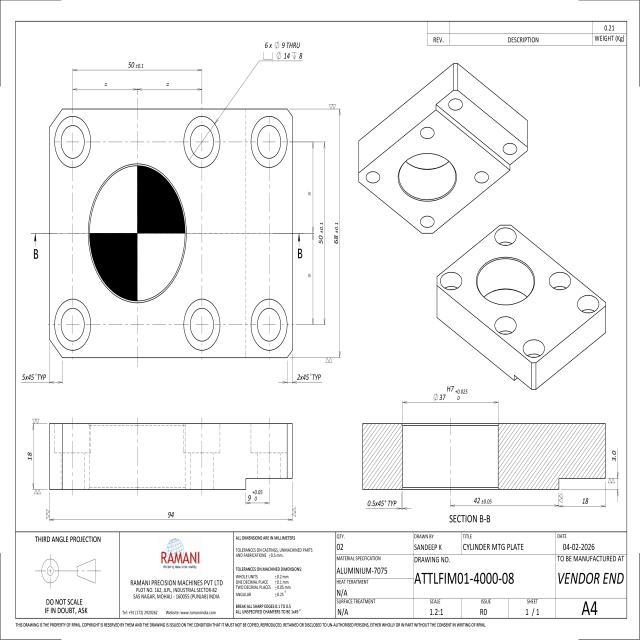dimension: (262, 38, 304, 60), (432, 384, 469, 401), (366, 498, 398, 508), (295, 372, 322, 382), (21, 372, 46, 382), (246, 489, 264, 501), (473, 496, 493, 506), (126, 61, 146, 70), (333, 220, 339, 247), (318, 220, 324, 246), (581, 496, 590, 506), (611, 449, 617, 464), (26, 450, 33, 462), (167, 510, 176, 519)
